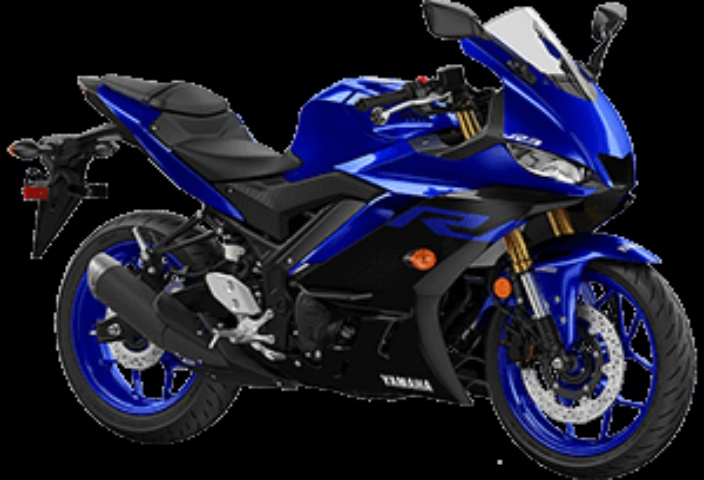motorcycle: (8, 7, 698, 480)
